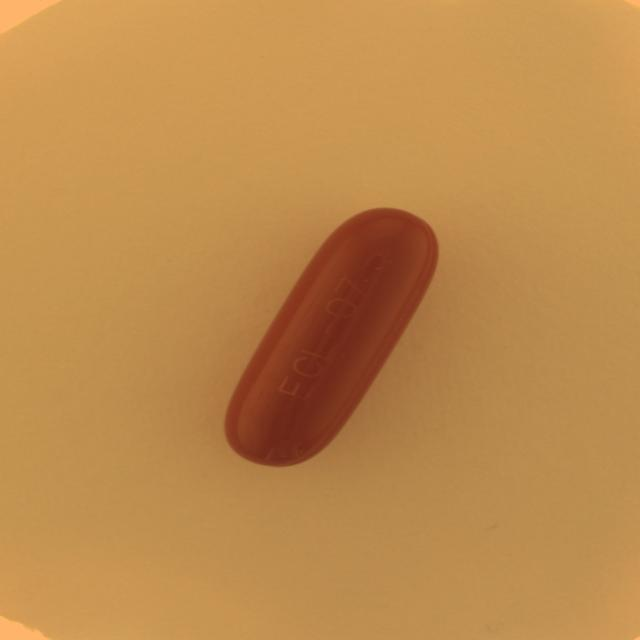Oval: (222, 205, 441, 474)
